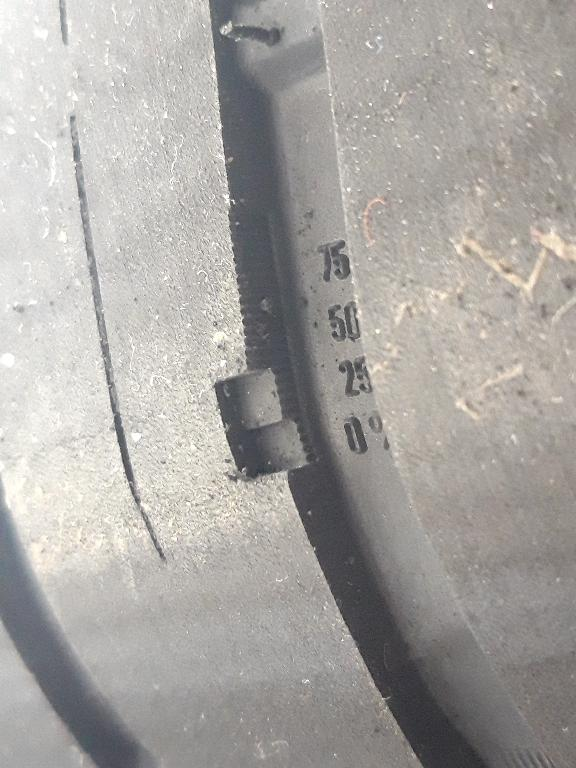temoin:50: (192, 305, 336, 495)
